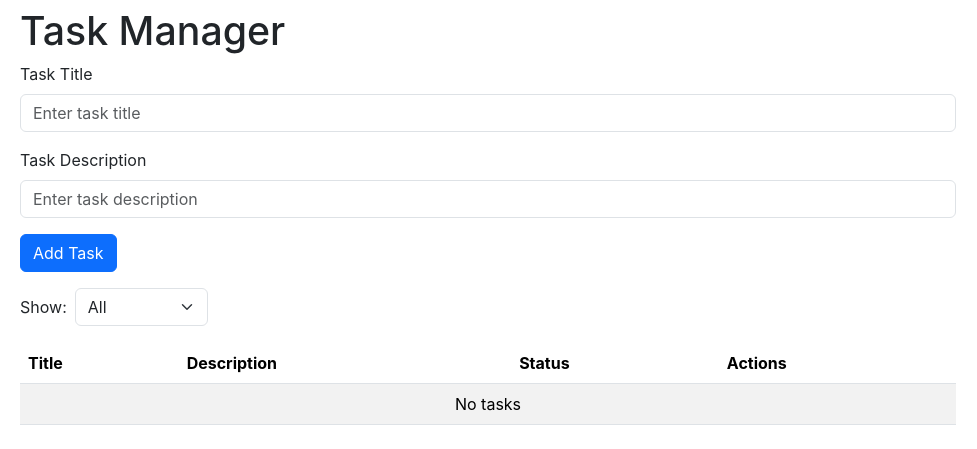
Test: App Component › marks task as Completed when Complete button is clicked
Type "Task to Complete" into the field with placeholder "Enter task title".
click(488, 113); type("Task to Complete")  # box [20,94,956,132]
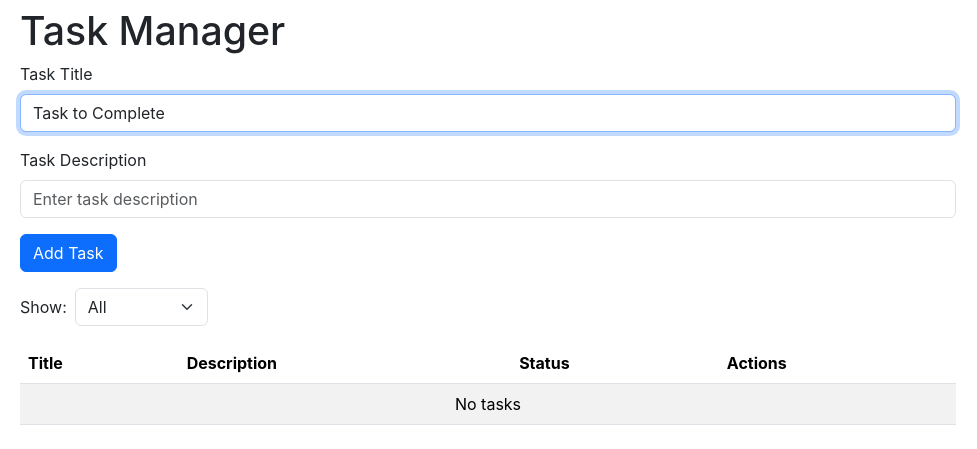
Click the button "Add Task".
click(68, 253)  # box [20,234,116,272]
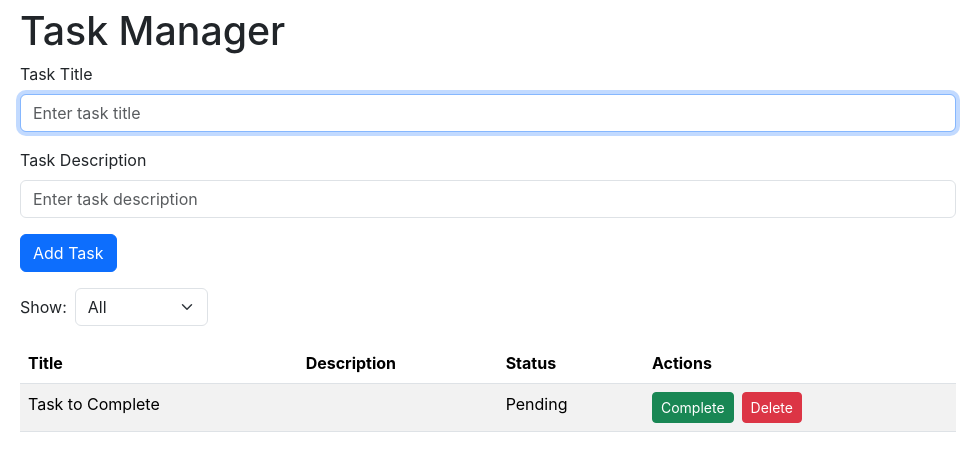
Click the button "Complete".
click(693, 408)  # box [652,392,734,423]
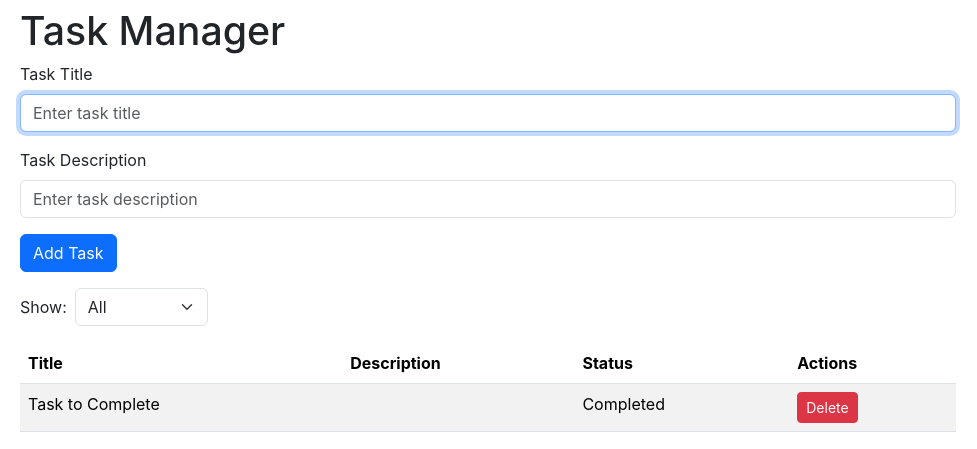
expect the row "Task to Complete Completed Delete" is shown: met, box [20,384,956,432]
